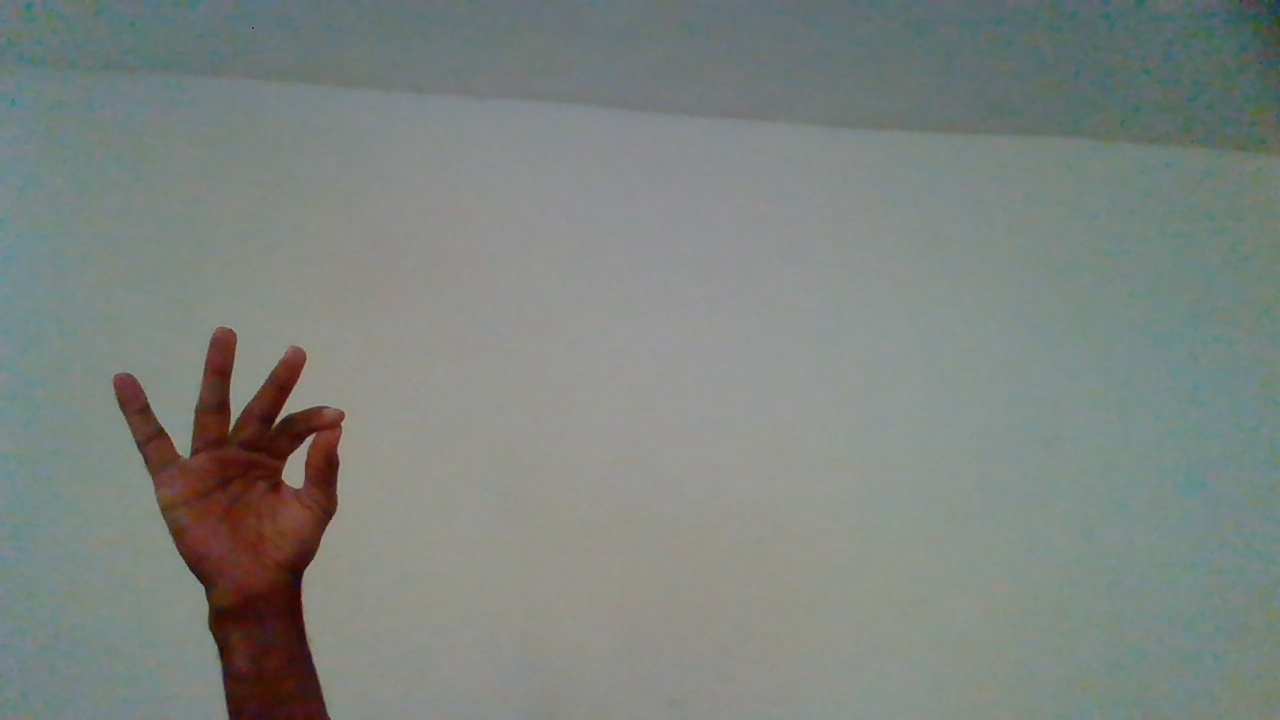le: (114, 324, 344, 720)
